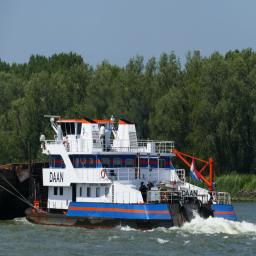tugboat: (24, 115, 240, 235)
